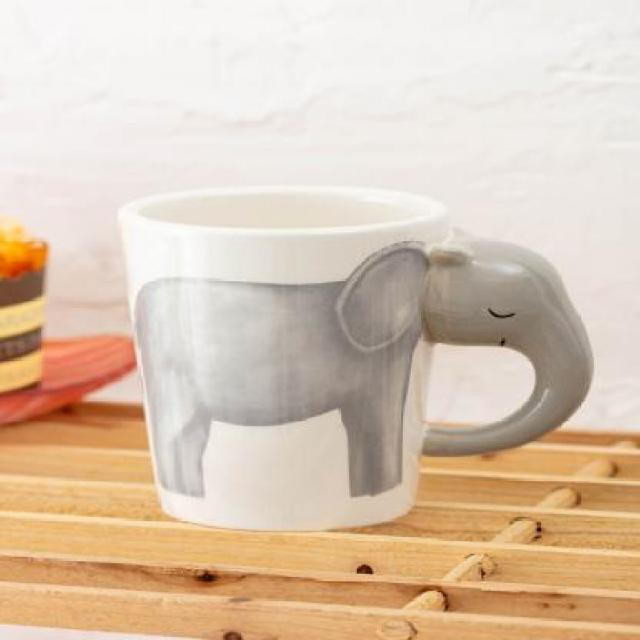taza: (113, 162, 598, 544)
